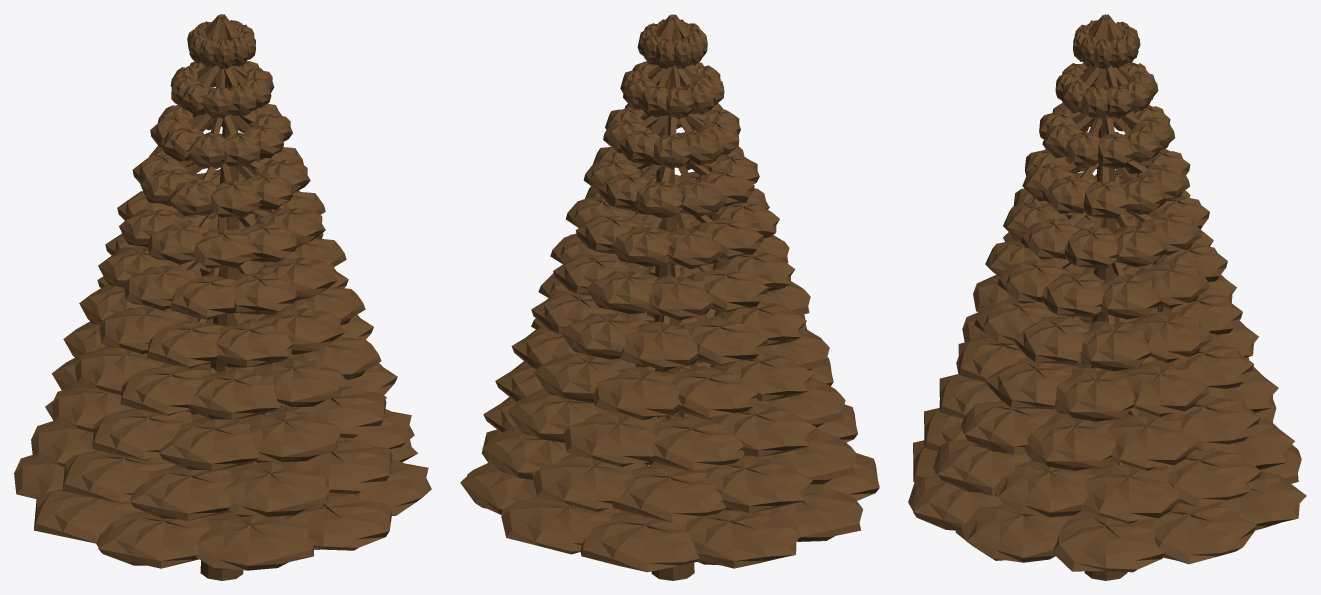
The model's file is Spruce.obj.
3 renders of one model, left to right at view 1: azimuth 30°, elevation 25°; view 2: azimuth 150°, elevation 25°; view 3: azimuth 270°, elevation 25°, orthographic.
Visible parts, largest first — view 1: leaf, wood; view 2: leaf, wood; view 3: leaf, wood.
Boxes of the visible parts, x1,y1,x2,y2 form: leaf: [14, 20, 431, 570]; wood: [165, 14, 276, 580]; leaf: [460, 19, 879, 572]; wood: [611, 14, 729, 580]; leaf: [908, 20, 1306, 572]; wood: [1041, 14, 1162, 580].
Size of the model in its own units: 4.76 by 6.76 by 4.39.
